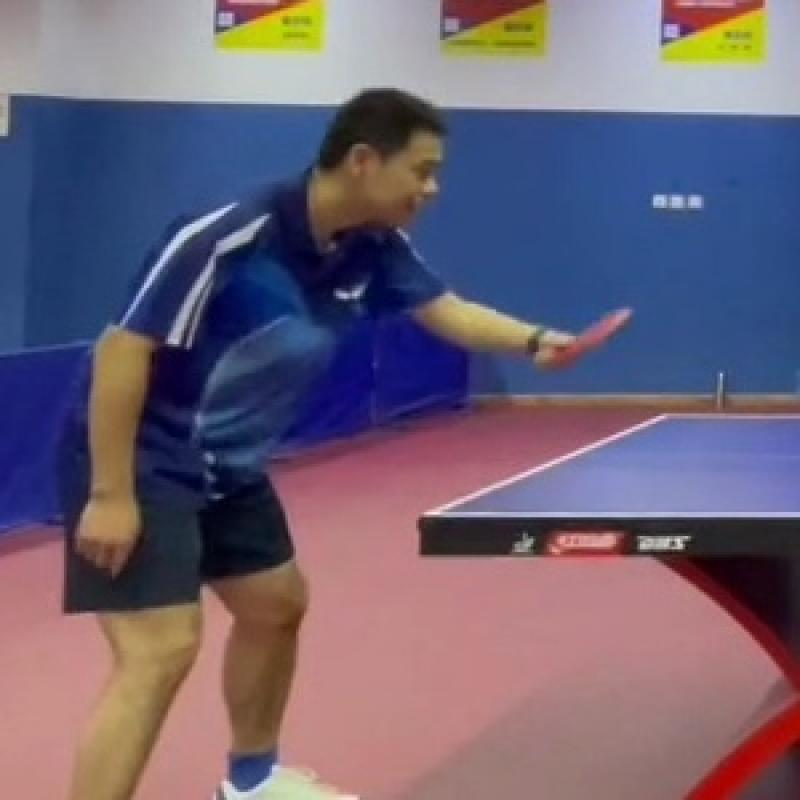bats: (541, 284, 650, 386)
